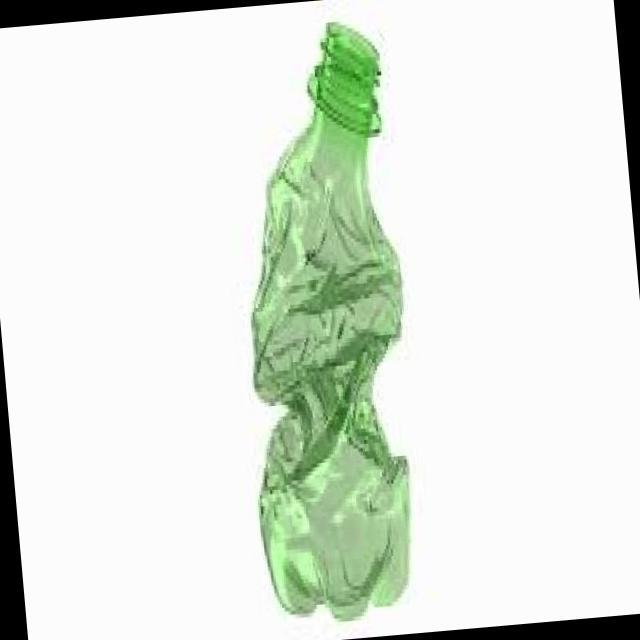defected: (206, 6, 437, 625)
